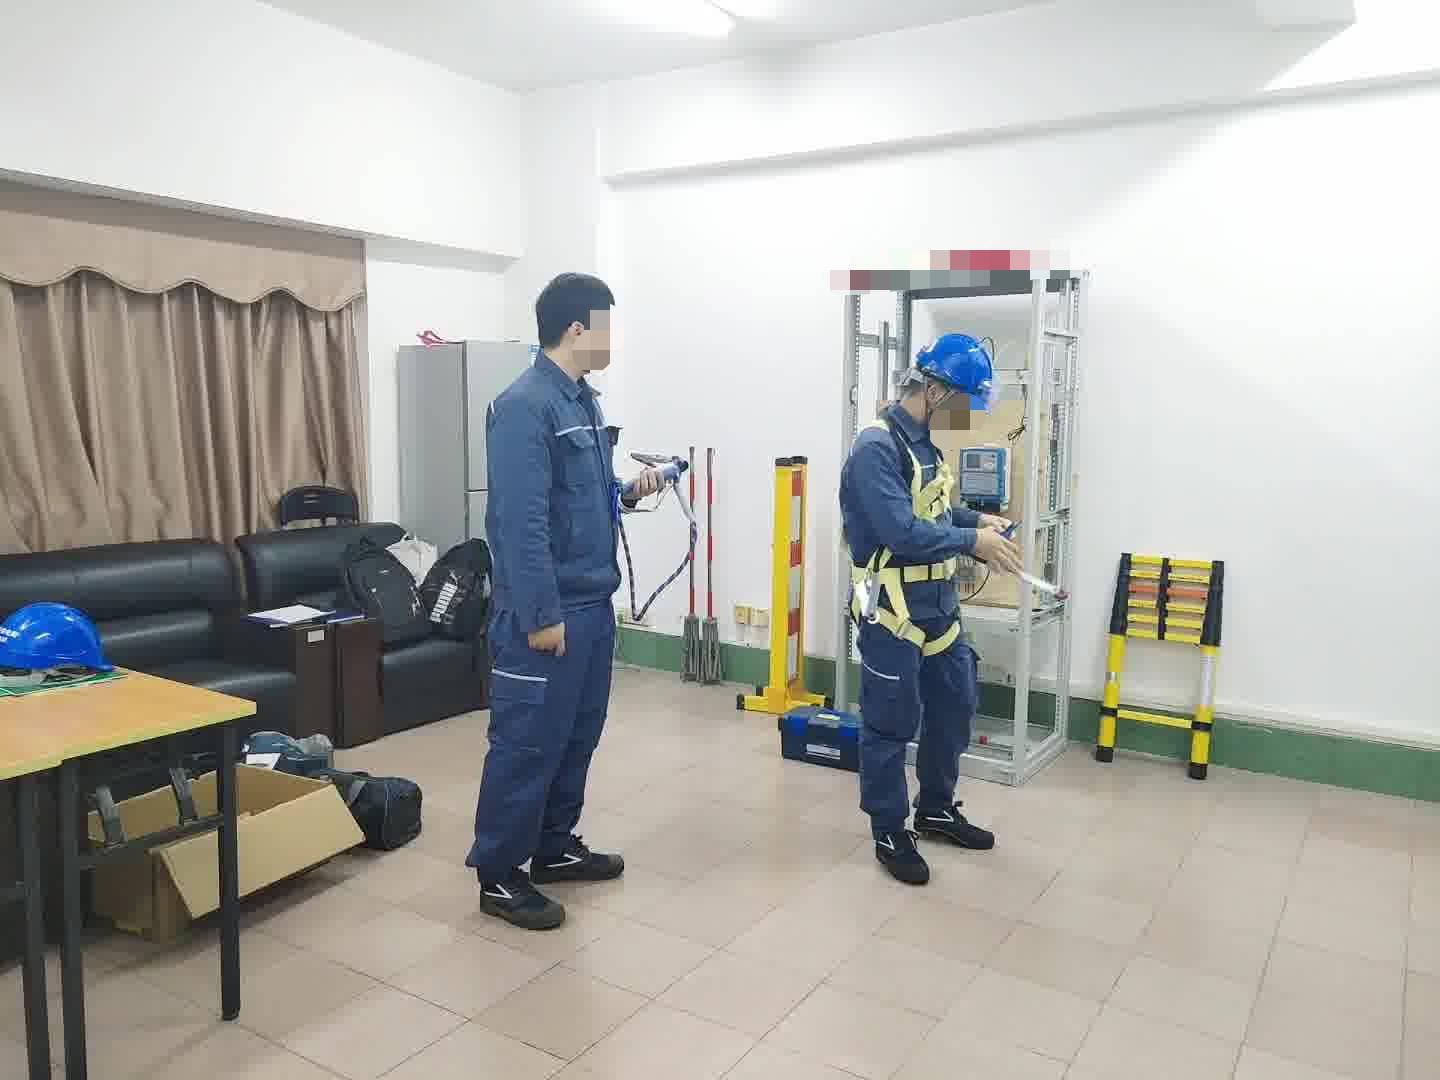halt: (915, 335, 999, 429)
inear: (920, 377, 958, 427)
noear: (564, 317, 595, 358)
unhalt: (534, 275, 626, 374)
